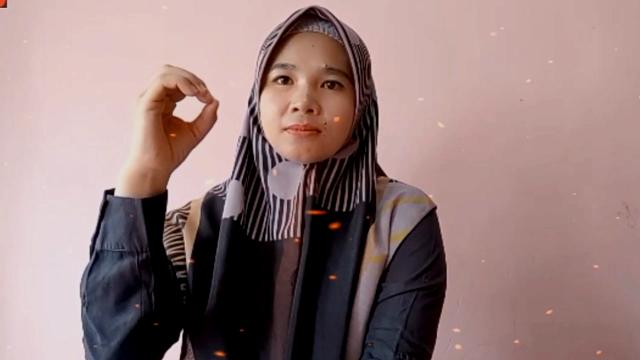O: (124, 51, 226, 173)
